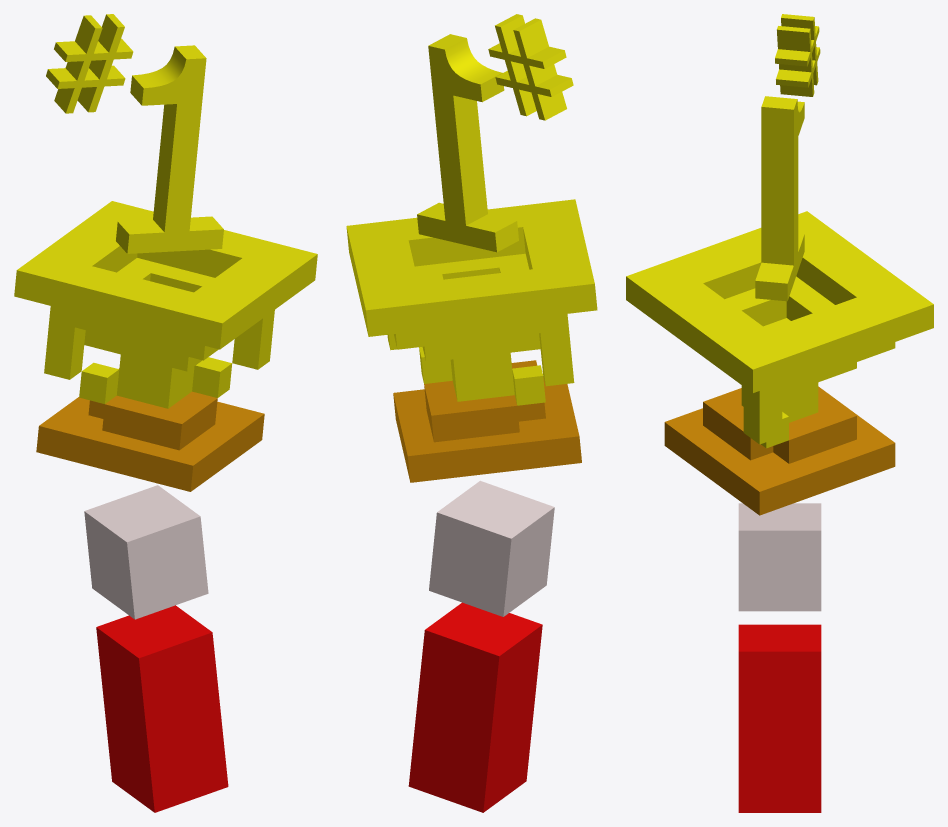
Rendered from VictoryChild.fbx.
3 views of the same model, side by side, from view 1: azimuth 30°, elevation 25°; view 2: azimuth 150°, elevation 25°; view 3: azimuth 270°, elevation 25° (orthographic). The views are drawn at different scales.
Visible parts, largest first — view 1: AwardMesh, PlayerChild; view 2: AwardMesh, PlayerChild; view 3: AwardMesh, PlayerChild.
Part boxes in pixels (box(x1,y1,x2,y2)): AwardMesh: box(14, 14, 317, 491); PlayerChild: box(84, 485, 228, 812); AwardMesh: box(346, 14, 597, 482); PlayerChild: box(408, 480, 554, 812); AwardMesh: box(626, 14, 933, 515); PlayerChild: box(738, 503, 821, 812).
Bounding box in the file's own units: 1.21 × 3.26 × 1.21.
